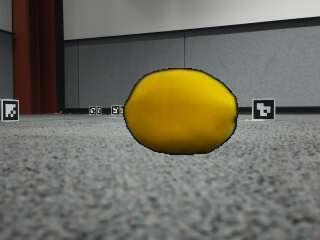lemon: (127, 70, 238, 154)
